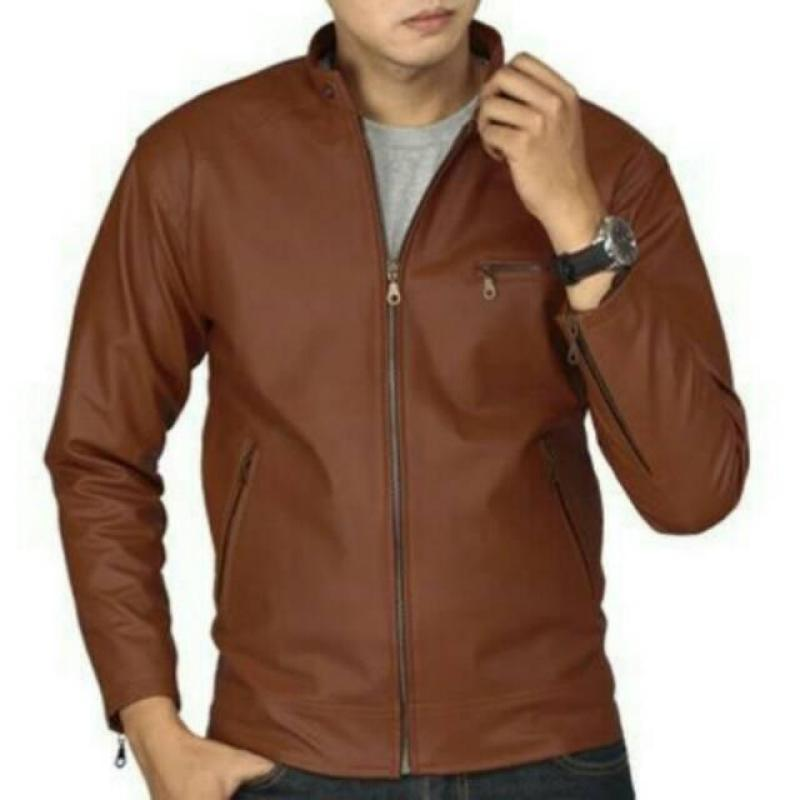jacket: (41, 18, 751, 765)
short sleeve shirt: (346, 95, 486, 257)
trousers: (210, 737, 634, 800)
